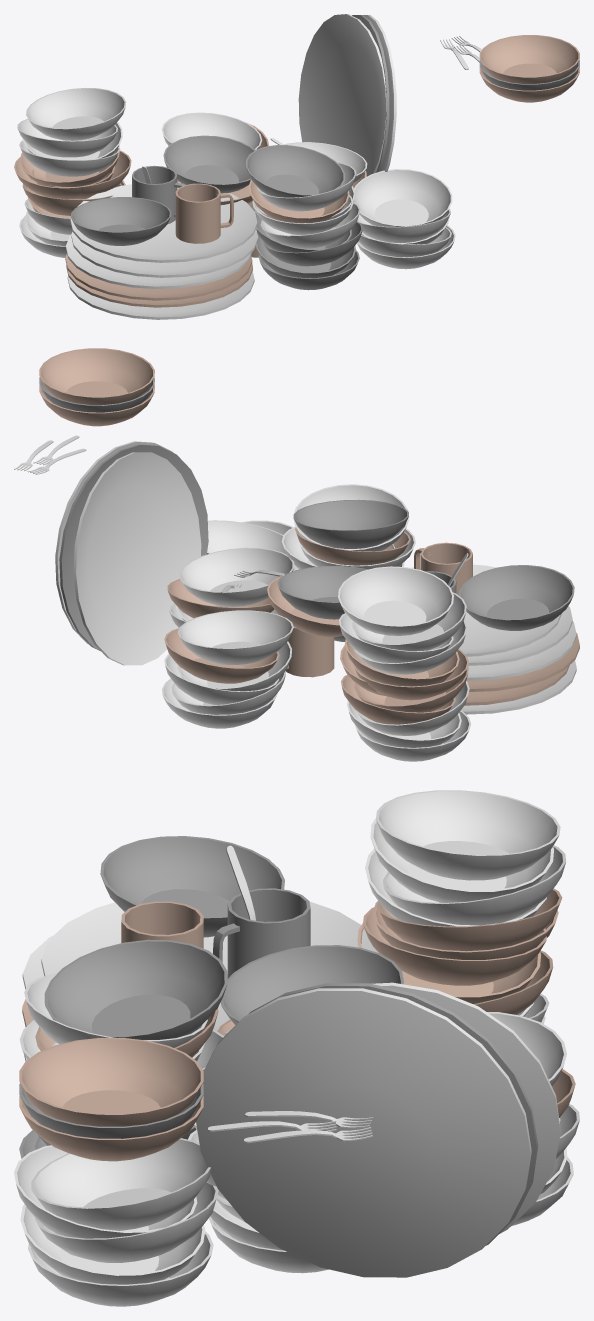
Rendered from dishes1.gltf.
3 views of the same model, one above another, from view 1: azimuth 30°, elevation 25°; view 2: azimuth 150°, elevation 25°; view 3: azimuth 270°, elevation 25° (orthographic). The views are drawn at different scales.
Parts seen in each view (by area): view 1: dishes; view 2: dishes; view 3: dishes.
Boxes of the visible parts, x1,y1,x2,y2 form: dishes: (14, 14, 579, 319); dishes: (14, 348, 579, 761); dishes: (14, 790, 579, 1306).
Bounding box in the file's own units: 0.9061 × 0.3268 × 0.5099.
